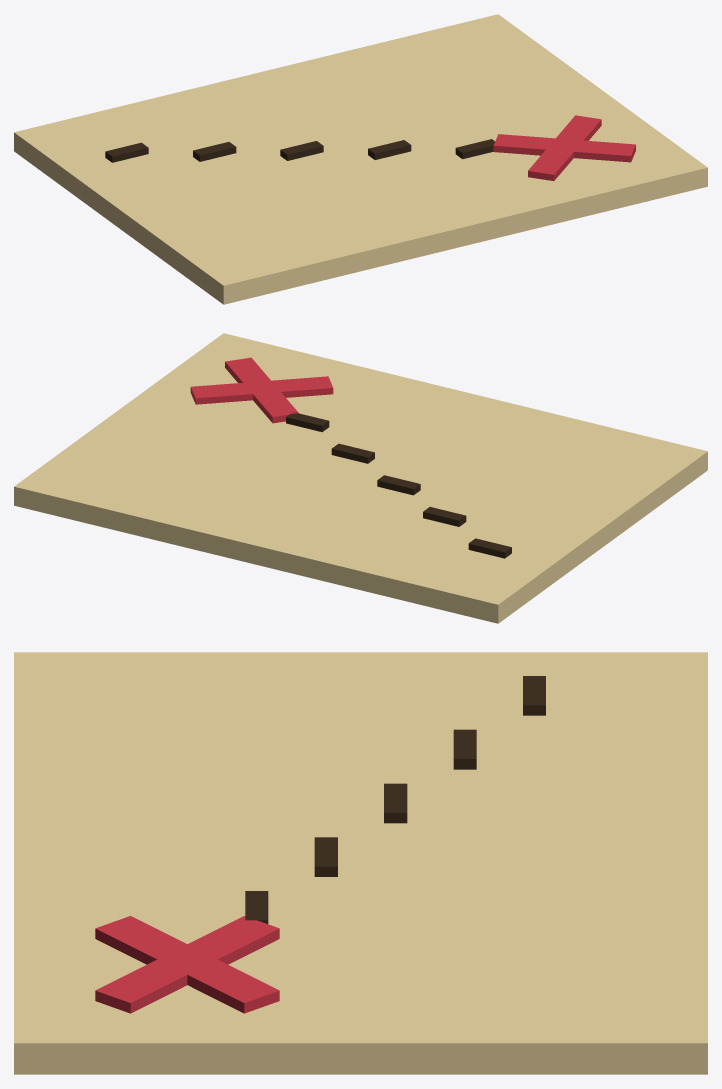
The model's file is dig_map.glb.
3 renders of one model, top to bottom at view 1: azimuth 30°, elevation 25°; view 2: azimuth 150°, elevation 25°; view 3: azimuth 270°, elevation 25°, orthographic. The views are drawn at different scales.
Visible parts, largest first — view 1: paper_map_paper, mark_ink_red (×2), path_ink_dark (×5); view 2: paper_map_paper, mark_ink_red (×2), path_ink_dark (×5); view 3: paper_map_paper, mark_ink_red (×2), path_ink_dark (×5).
Part boxes in pixels (<box>): paper_map_paper: <box>14,14,707,304</box>; mark_ink_red (×2): <box>493,115,635,180</box>; path_ink_dark (×5): <box>105,139,494,162</box>; paper_map_paper: <box>14,333,707,623</box>; mark_ink_red (×2): <box>190,357,333,423</box>; path_ink_dark (×5): <box>286,412,511,558</box>; paper_map_paper: <box>14,652,707,1074</box>; mark_ink_red (×2): <box>95,916,279,1013</box>; path_ink_dark (×5): <box>245,676,545,923</box>.
Size of the model in its own units: 0.16 by 0.008 by 0.12.
